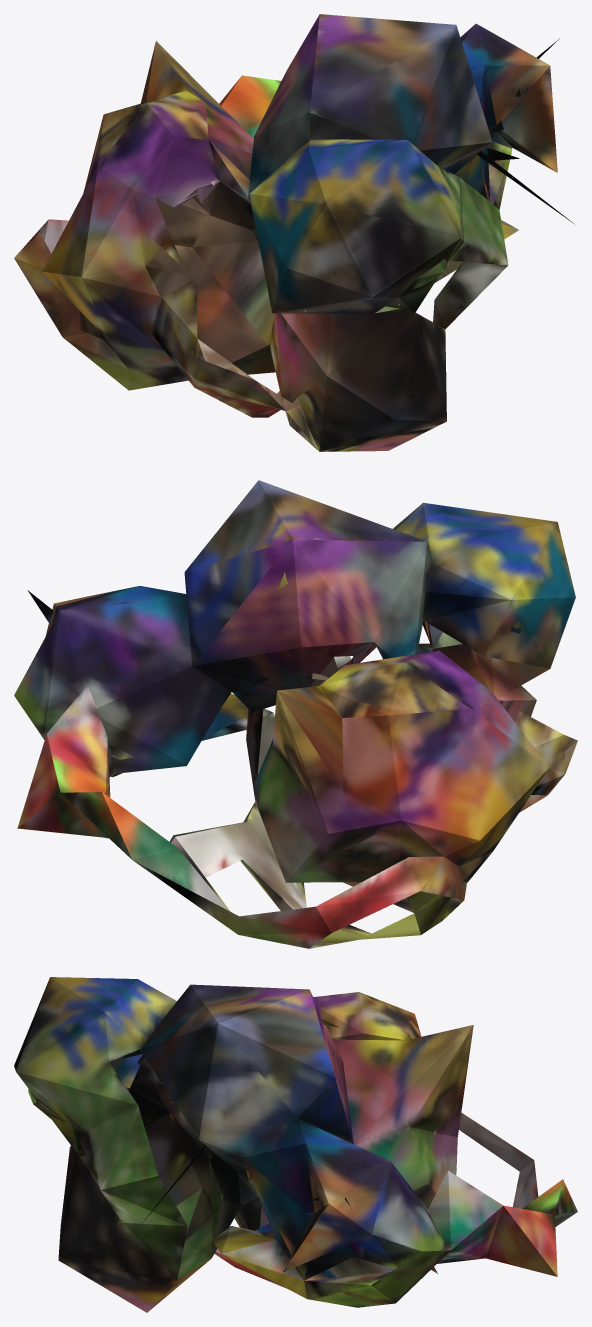
Rendered from fish.obj.
3 views of the same model, one above another, from view 1: azimuth 30°, elevation 25°; view 2: azimuth 150°, elevation 25°; view 3: azimuth 270°, elevation 25° (orthographic). The views are drawn at different scales.
Bounding box in the file's own units: 430 × 297 × 449.
Materials: 1 (1 with a texture image).
